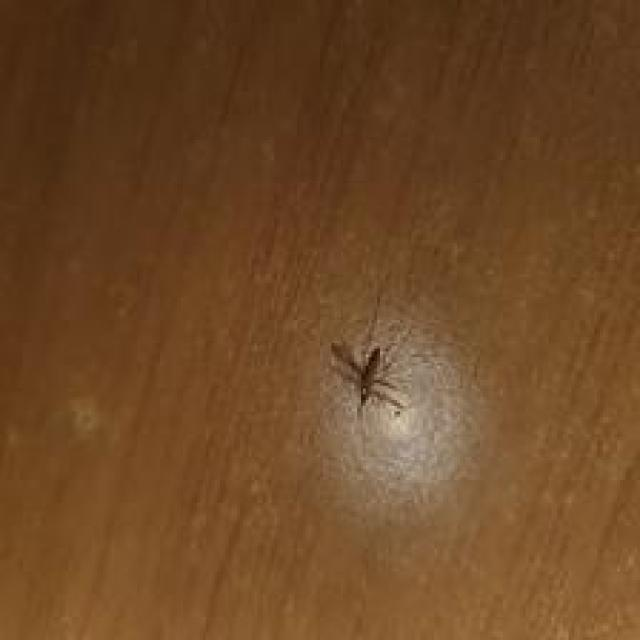Culex: (328, 338, 408, 418)
